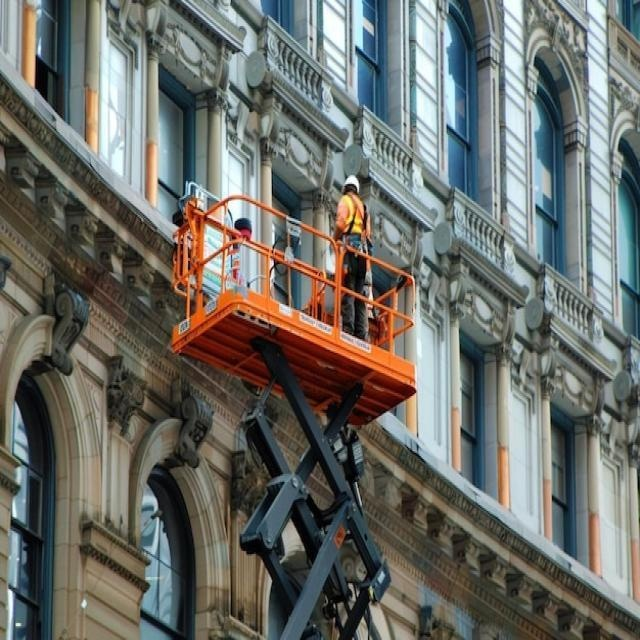Arnes_seguridad: (339, 197, 369, 274)
